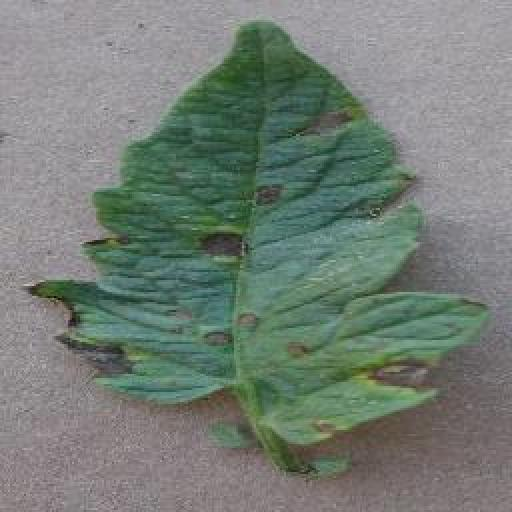disease_tomato: (26, 14, 490, 444)
